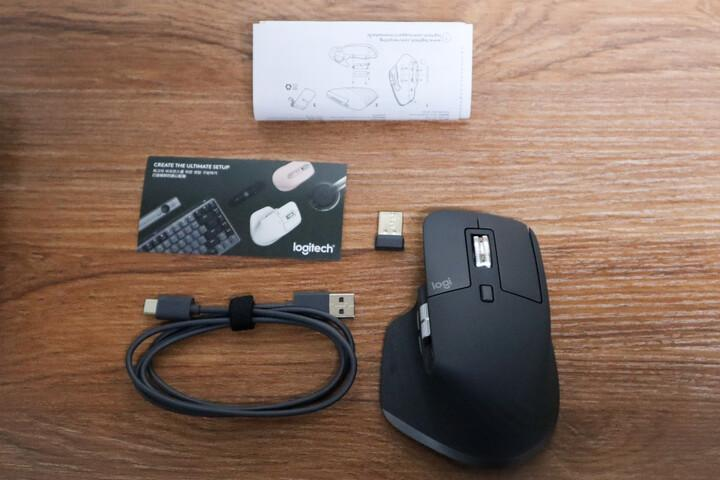mouse: (378, 207, 560, 467)
